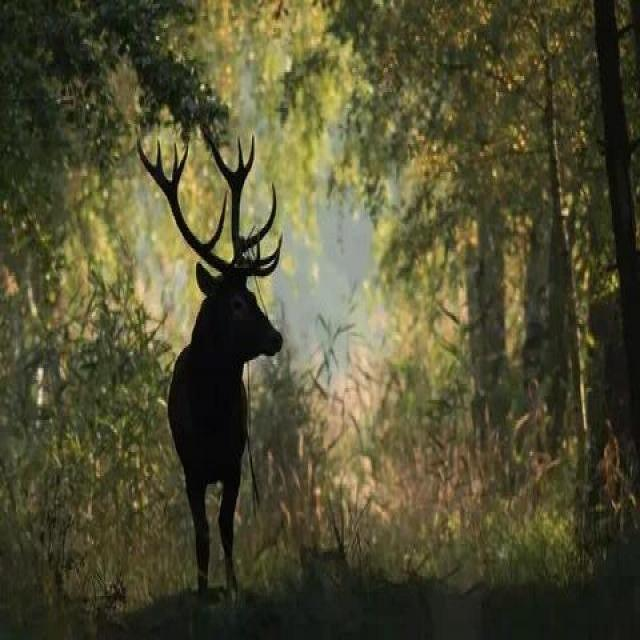deer: (97, 128, 349, 556)
